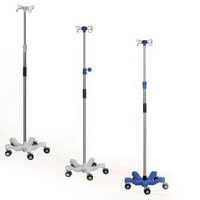Saline Stand: (4, 2, 50, 160), (123, 36, 168, 194), (64, 23, 109, 180)
